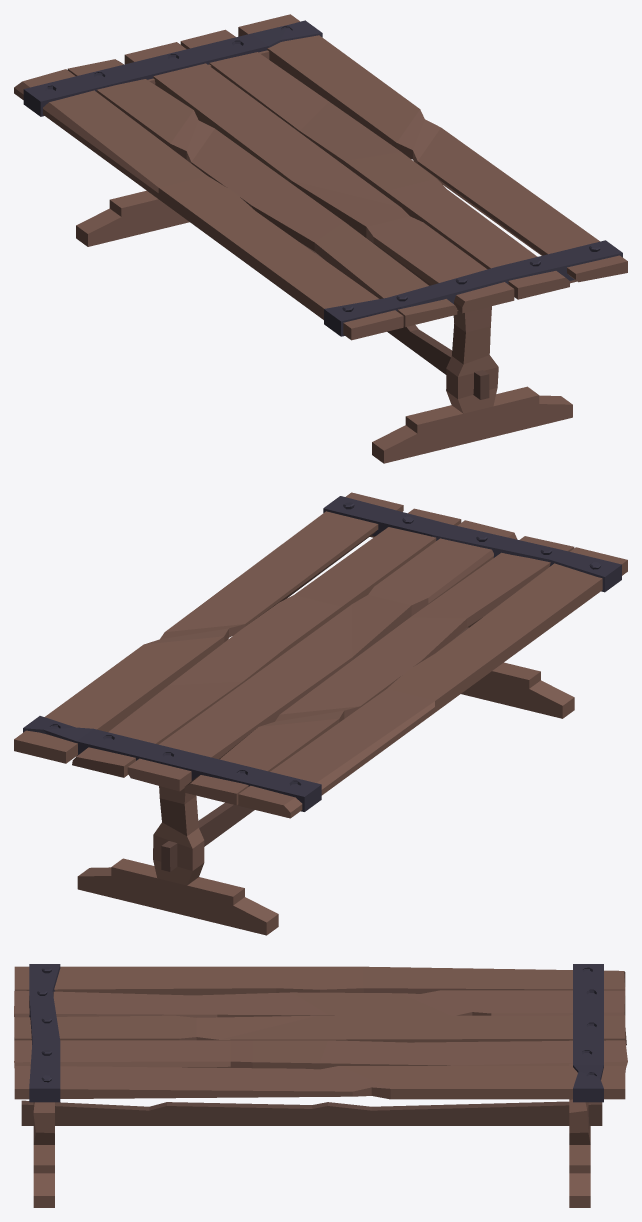
Rendered from table_big.glb.
The picture shows the model from 3 angles, top to bottom: view 1: azimuth 30°, elevation 25°; view 2: azimuth 150°, elevation 25°; view 3: azimuth 270°, elevation 25°; orthographic projection. The views are drawn at different scales.
Parts seen in each view (by area): view 1: Table_Big; view 2: Table_Big; view 3: Table_Big.
Part boxes in pixels (bbox=[...]): Table_Big: bbox=[14, 14, 627, 463]; Table_Big: bbox=[14, 492, 627, 935]; Table_Big: bbox=[14, 964, 627, 1207].
Size of the model in its own units: 1.58 by 0.854 by 3.3.
